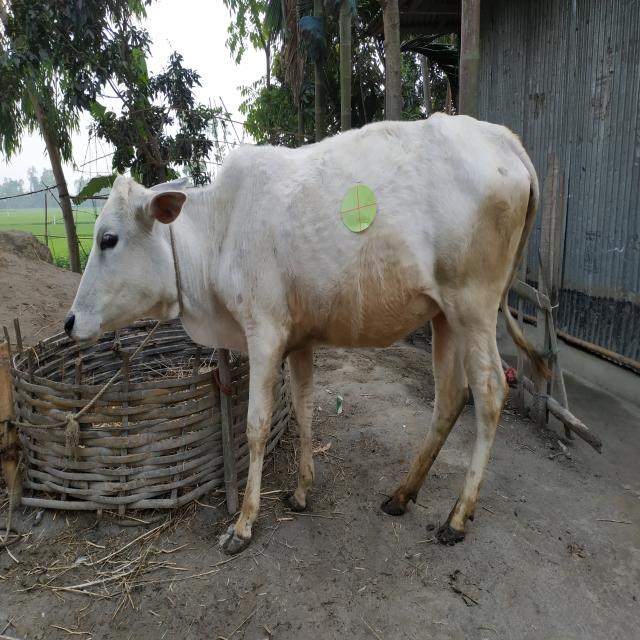badan_sapi: (222, 128, 533, 345)
sapi: (56, 112, 571, 570)
